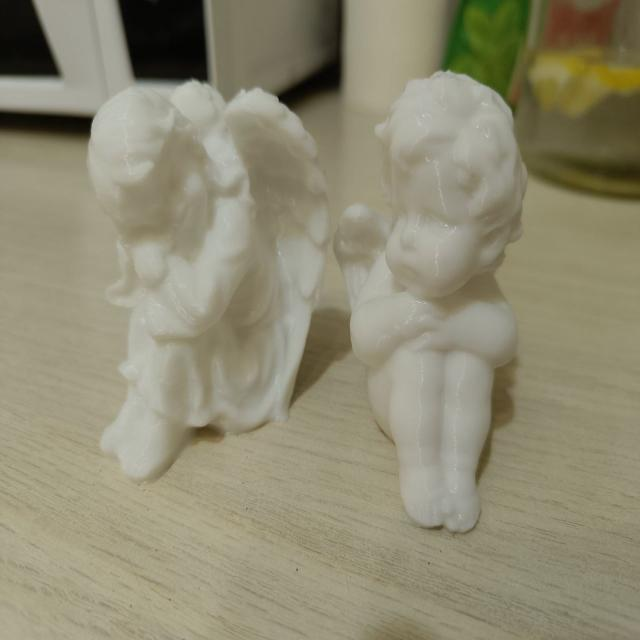Without deffect: (87, 60, 537, 578)
